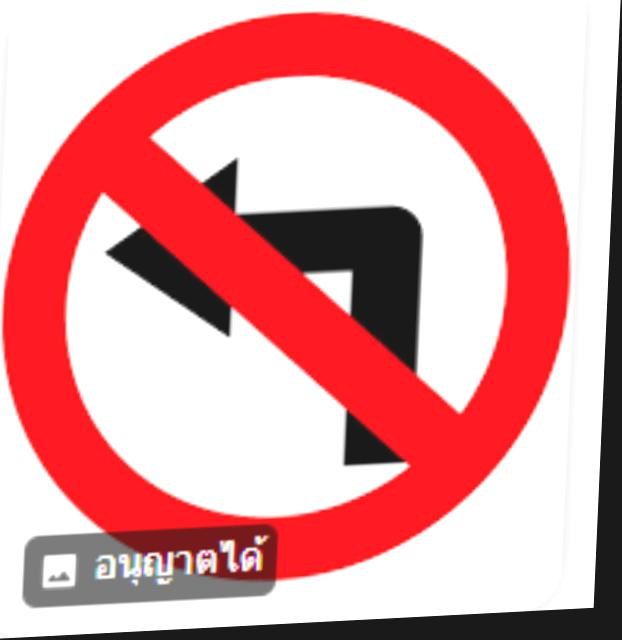not_turn_left: (12, 0, 595, 630)
